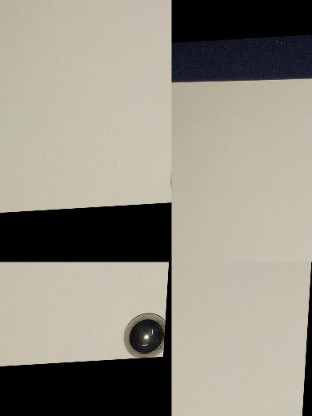ironball: (119, 310, 163, 356)
